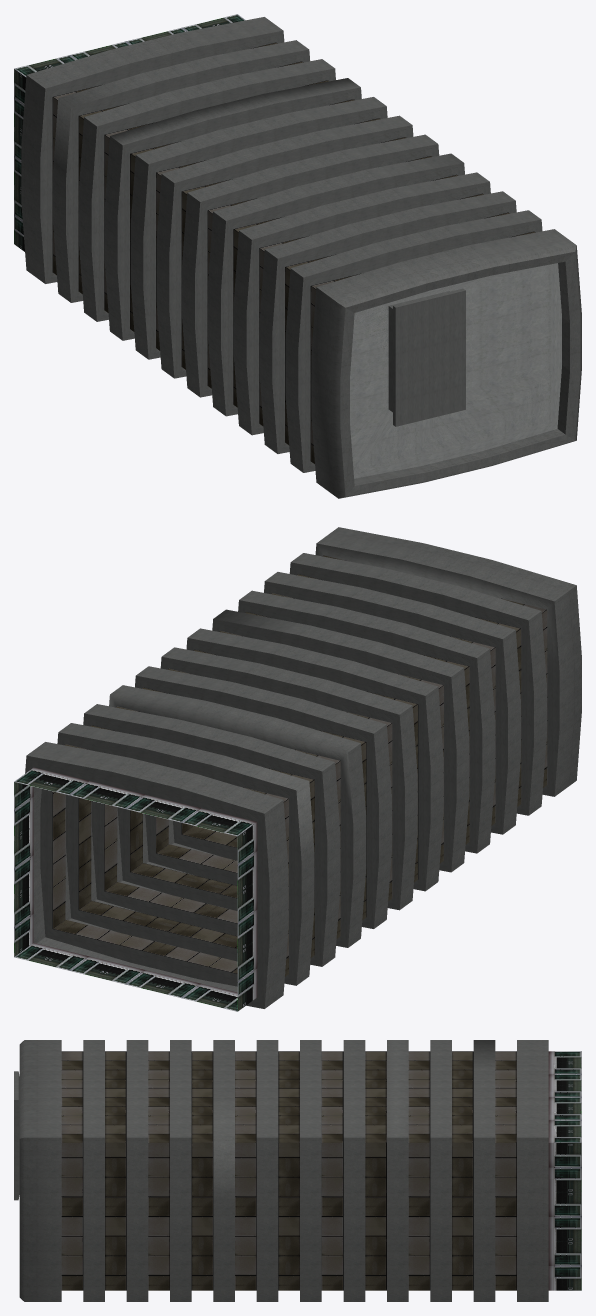
The model's file is skyscraper_windowH_01.obj.
3 views of the same model, one above another, from view 1: azimuth 30°, elevation 25°; view 2: azimuth 150°, elevation 25°; view 3: azimuth 270°, elevation 25° (orthographic). The views are drawn at different scales.
Visible parts, largest first — view 1: Zone_4x4_SeaWall_C_08; view 2: Zone_4x4_SeaWall_C_08; view 3: Zone_4x4_SeaWall_C_08.
Part boxes in pixels (x1=…): Zone_4x4_SeaWall_C_08: x1=14, y1=14, x2=581, y2=498; Zone_4x4_SeaWall_C_08: x1=14, y1=527, x2=581, y2=1011; Zone_4x4_SeaWall_C_08: x1=14, y1=1040, x2=581, y2=1301.
Size of the model in its own units: 44.48 by 35.01 by 105.
Materials: 4 (4 with a texture image).
